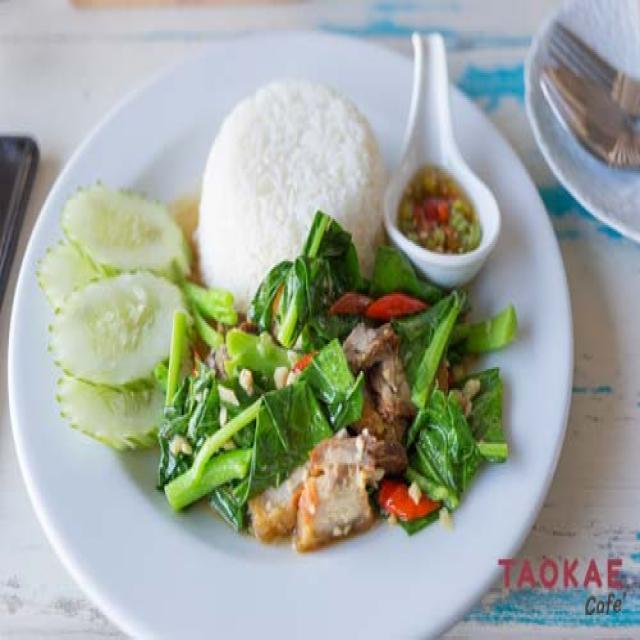cac loai rau cu: (37, 182, 188, 449), (411, 291, 519, 496), (161, 277, 248, 529), (256, 218, 422, 316), (253, 333, 359, 442), (251, 443, 309, 474)
com: (203, 77, 386, 301)
com chien cai xoan: (37, 76, 527, 558)
thit heo: (251, 444, 376, 551), (346, 326, 404, 472)
